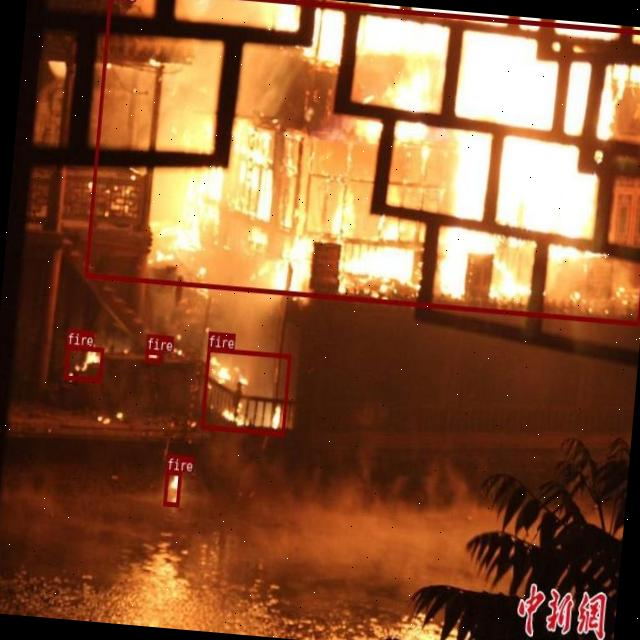fire: (83, 0, 640, 324), (200, 346, 291, 436), (63, 344, 104, 382), (162, 469, 182, 506), (144, 349, 161, 361)
